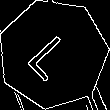L_NE: (24, 26, 82, 82)
